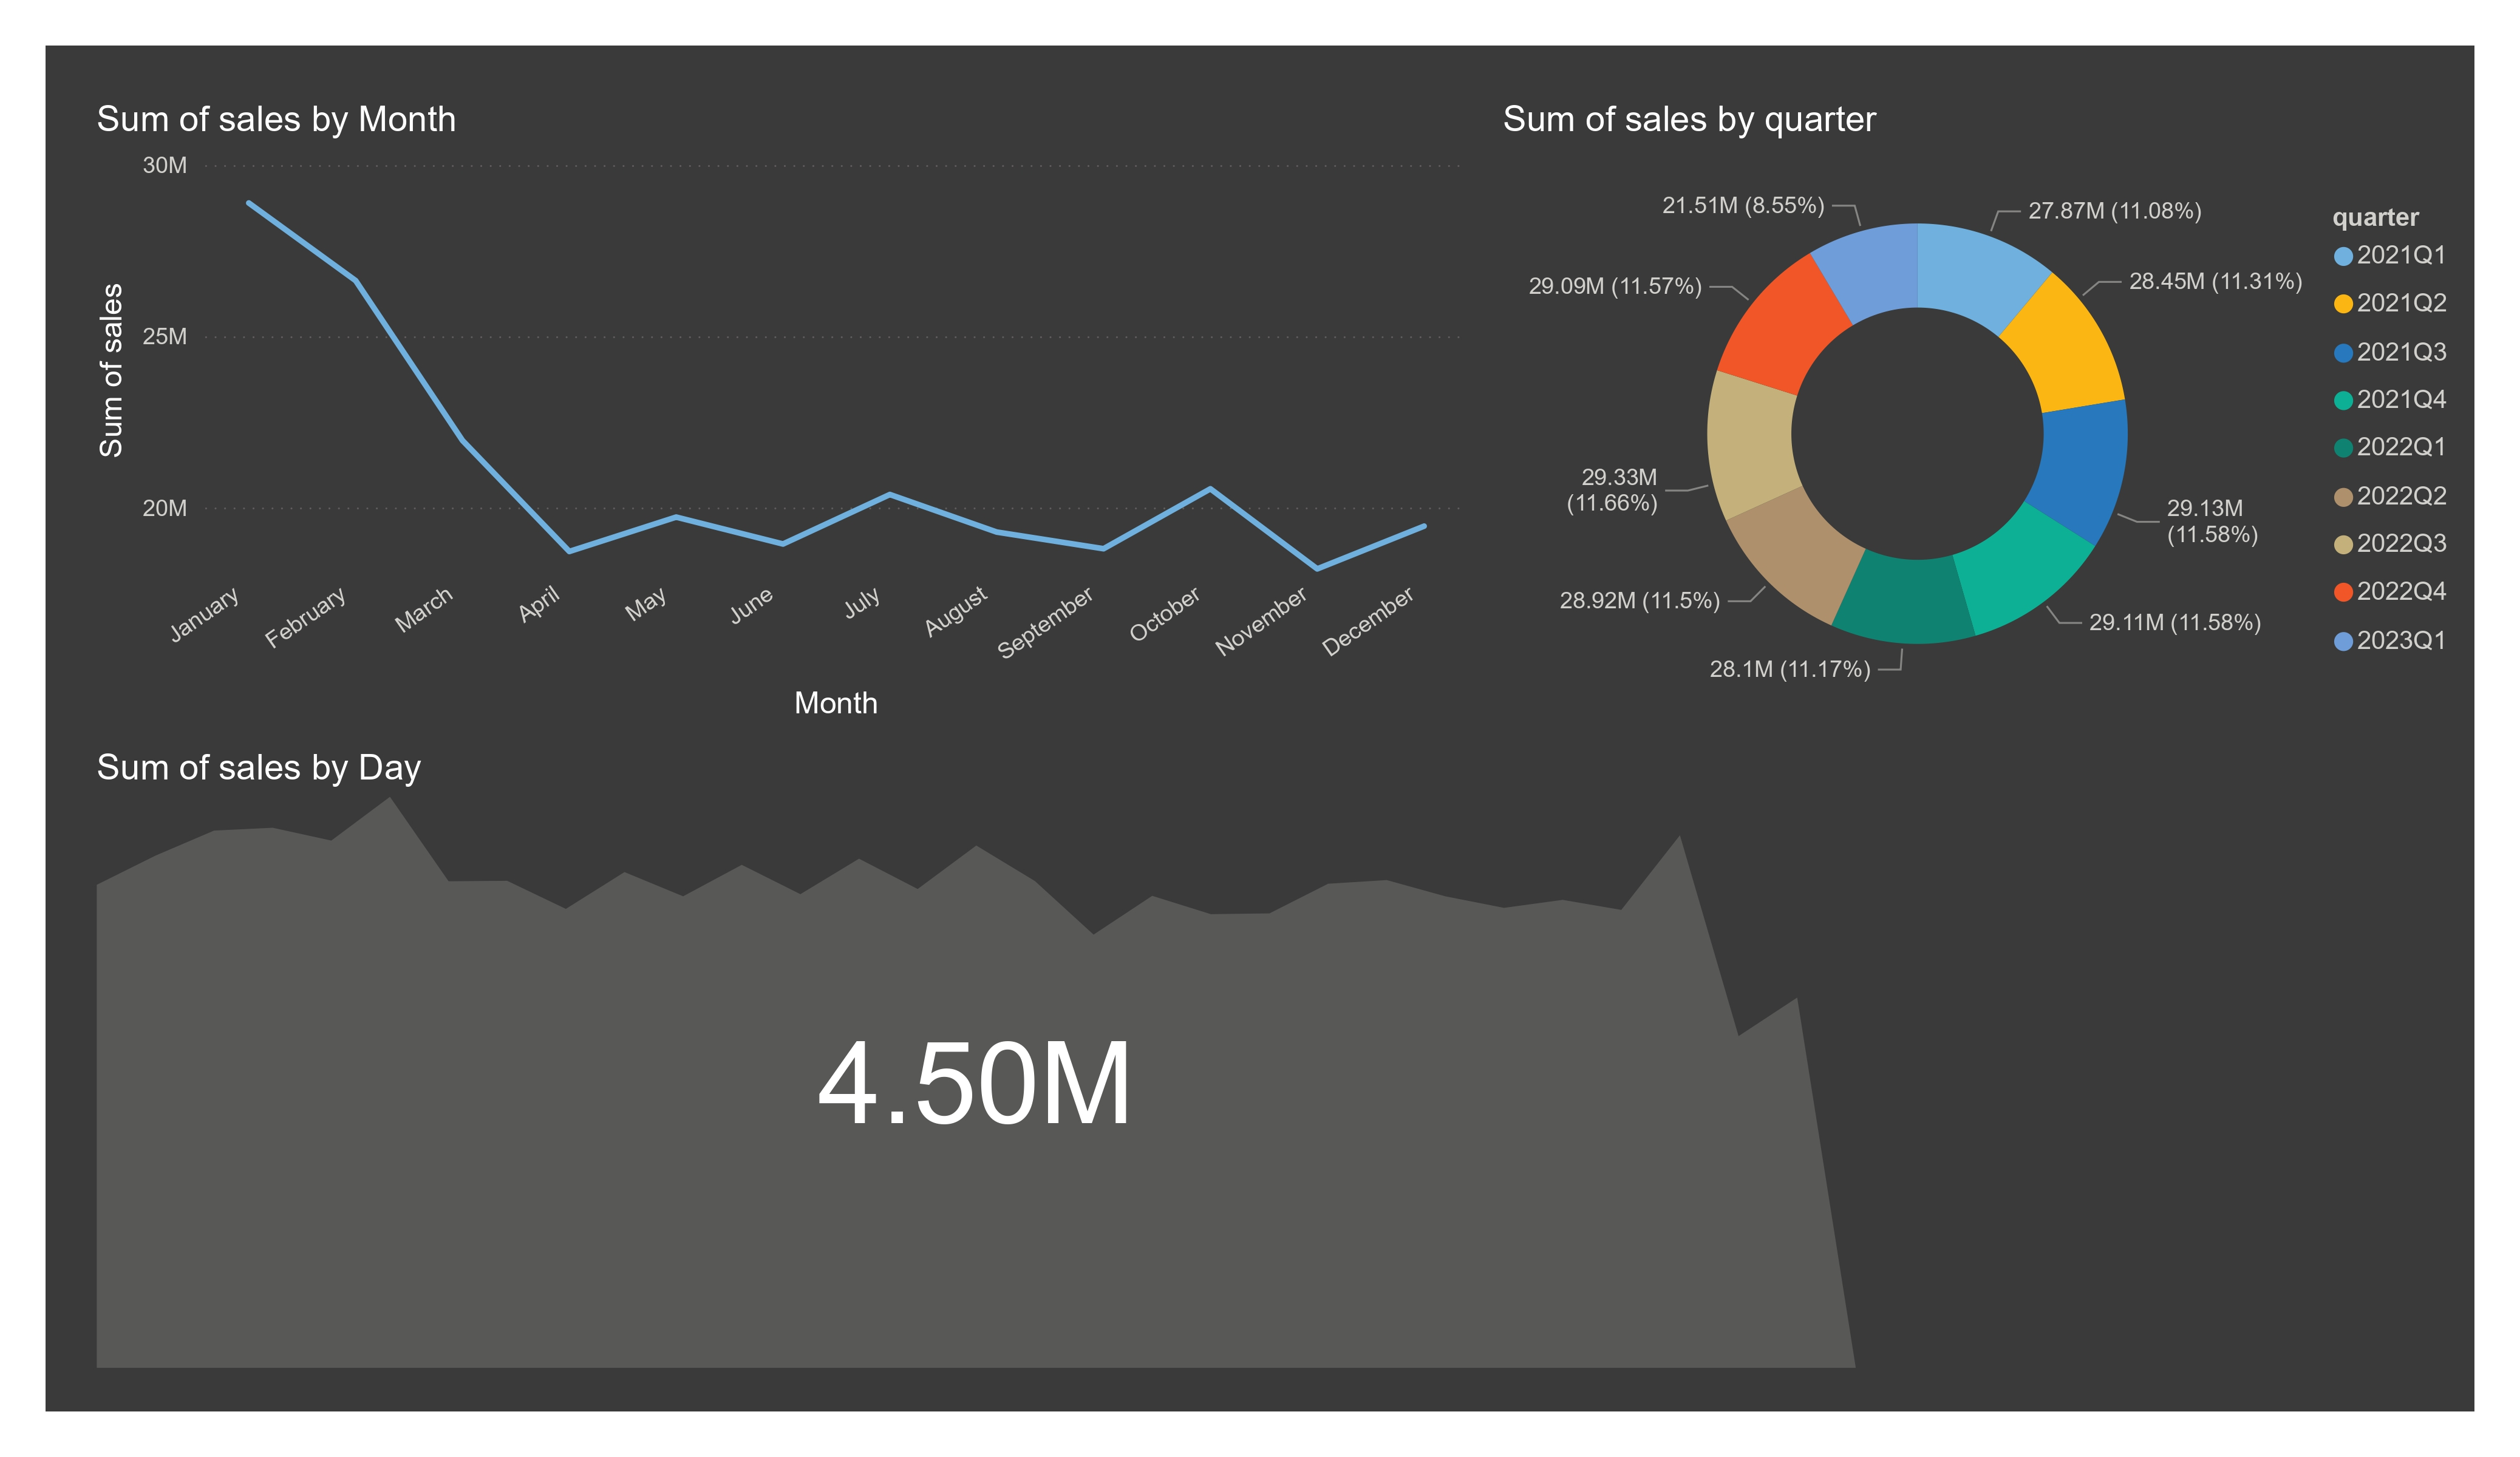

The dashboard page shown, as its layout file describes it:
{"tool":"powerbi","page":{"name":"Sales - Time","canvas":[1280,720],"ordinal":1},"visuals":[{"type":"lineChart","fields":{"Y":["Sum(Retail.sales)"],"Category":["Retail.invoice_date.Variation.Date Hierarchy.Month"]},"box":[22.2,27.7,731.4,332.5],"z":0},{"type":"kpi","fields":{"TrendLine":["Retail.invoice_date.Variation.Date Hierarchy.Day"],"Indicator":["Sum(Retail.sales)"]},"box":[22.2,369.9,936.5,332.5],"z":1000},{"type":"donutChart","fields":{"Y":["Sum(Retail.sales)"],"Series":["Retail.quarter"]},"box":[763,28,517,332],"z":2000}]}

Visuals, with their boxes on the page's 1280x720 design canvas (x1, y1, x2, y2). These are canvas units, not pixel positions in the 2520x1457 screenshot, which may show the page scaled, cropped or inside an application window:
lineChart - Sum(Retail.sales) x Retail.invoice_date.Variation.Date Hierarchy.Month: <region>22, 28, 754, 360</region>
kpi - Retail.invoice_date.Variation.Date Hierarchy.Day x Sum(Retail.sales): <region>22, 370, 959, 702</region>
donutChart - Sum(Retail.sales) x Retail.quarter: <region>763, 28, 1280, 360</region>
